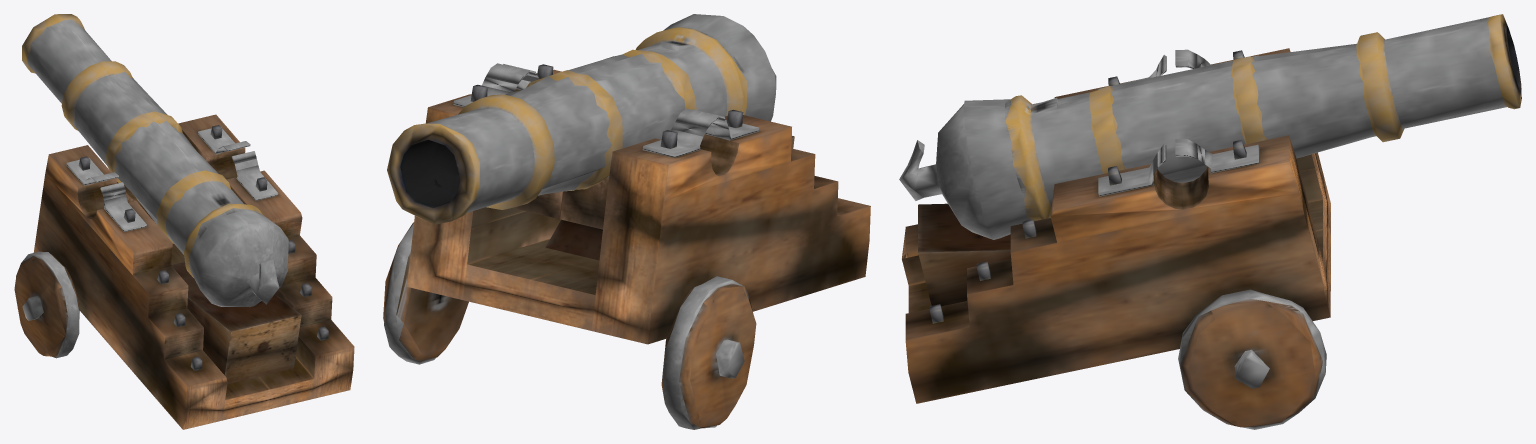
The model's file is ARC0510172.fbx.
3 views of the same model, side by side, from view 1: azimuth 30°, elevation 25°; view 2: azimuth 150°, elevation 25°; view 3: azimuth 270°, elevation 25° (orthographic). The views are drawn at different scales.
Parts seen in each view (by area): view 1: smARC0510172; view 2: smARC0510172; view 3: smARC0510172.
Part boxes in pixels (x1=…): smARC0510172: x1=14, y1=14, x2=354, y2=429; smARC0510172: x1=383, y1=14, x2=870, y2=429; smARC0510172: x1=899, y1=14, x2=1521, y2=429.
Bounding box in the file's own units: 175 × 180 × 294.
Materials: 1 (1 with a texture image).
